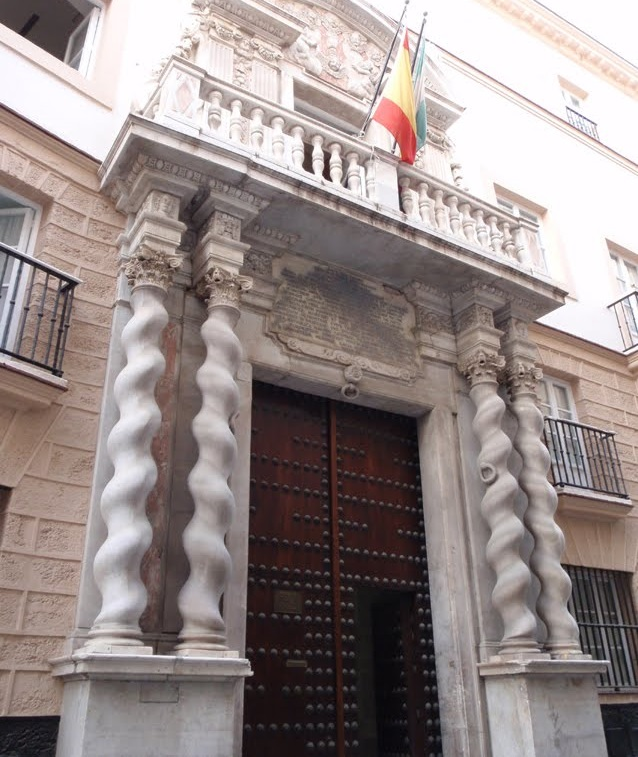columna-salomonica: (85, 282, 174, 648)
vano-adintelado: (246, 352, 459, 757), (175, 299, 250, 650), (459, 374, 538, 650), (508, 377, 586, 653)
